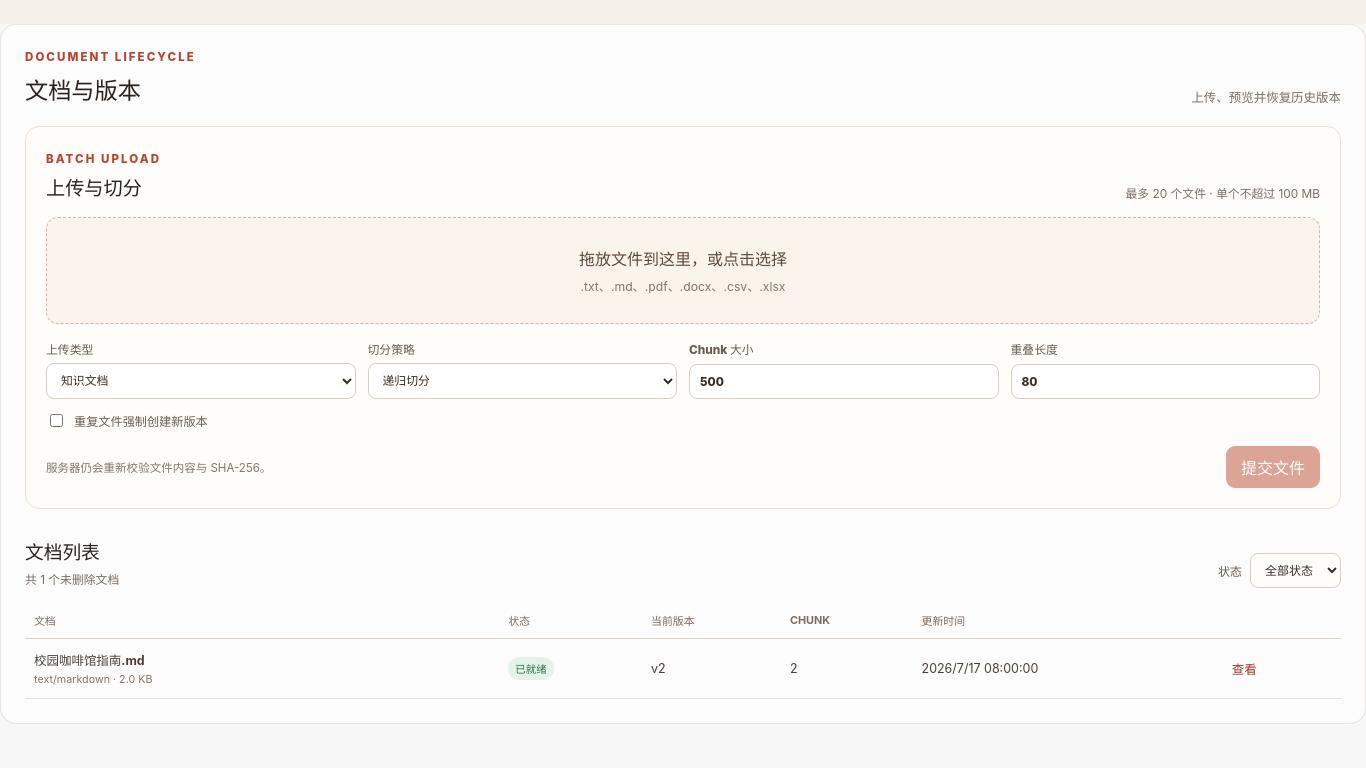
KnowledgeDocumentWorkspace › opens original and Chunk previews for the selected immutable version
The width and height of the screenshot is (1366, 768).
Click the button "查看". click: [1244, 668]
box: [1226,658,1263,678]
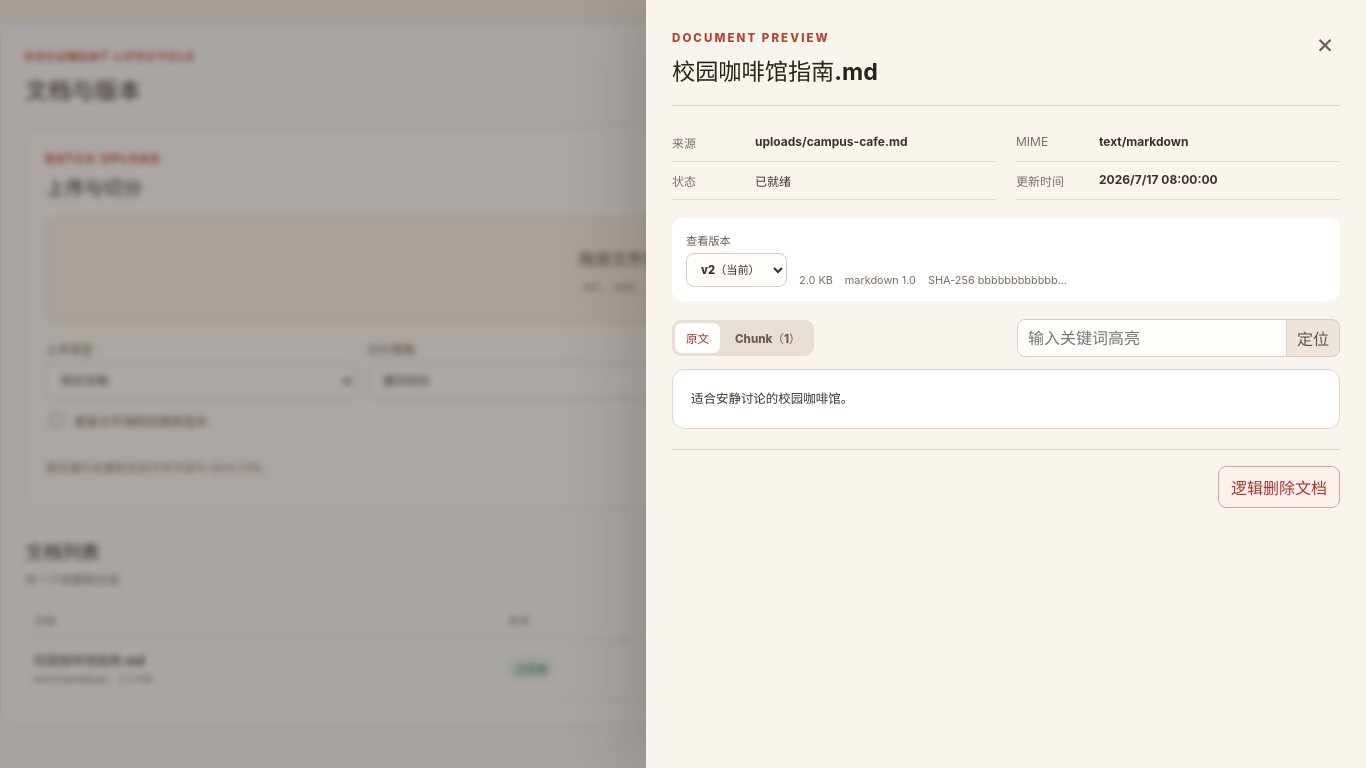
Check: the text "适合安静讨论的校园咖啡馆。" is shown, box [691,391,853,406]
Click the button "Chunk（1）". click: [768, 338]
box: [724,323,812,353]
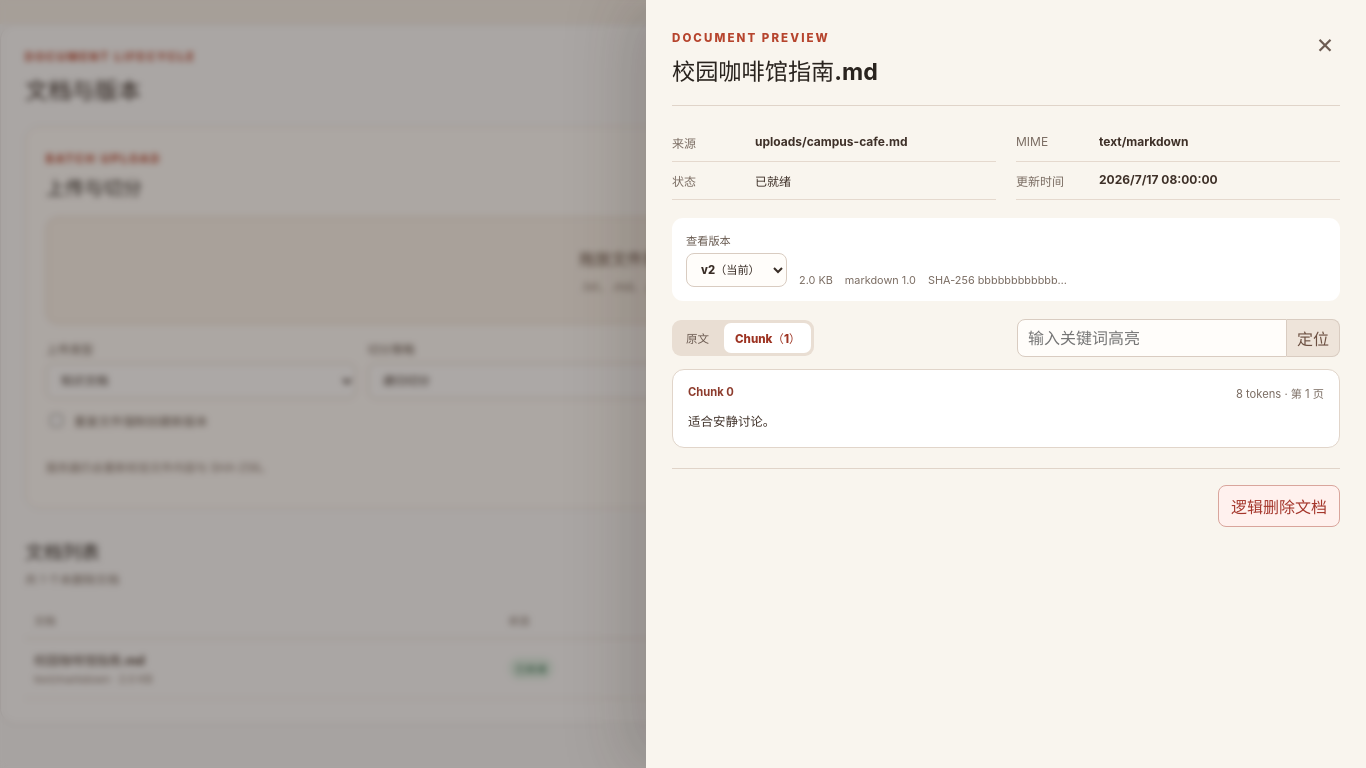
Check: the text "Chunk 0" is shown, box [688,385,734,401]
Check: the text "8 tokens · 第 1 页" is shown, box [1236,385,1324,401]
